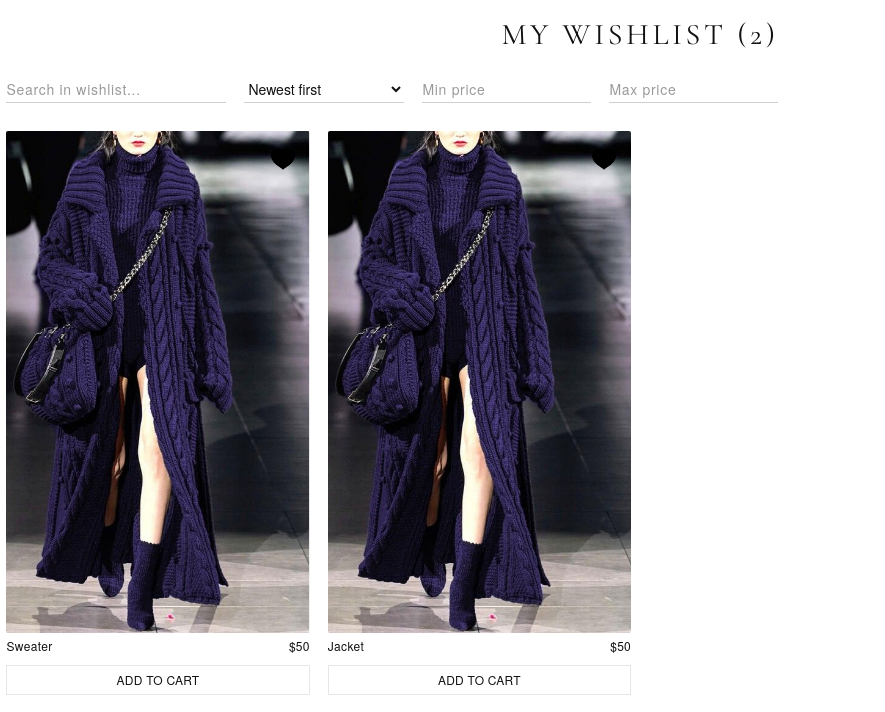
it: WishList - search filter › filters items by the search input without re-fetching from the server
The image size is (885, 712).
Check: the text "Sweater" is shown, box [6, 639, 53, 653]
Check: the text "Jacket" is shown, box [328, 639, 364, 653]
Type "Sweater" into the field with placeholder "Search in wishlist...". click: (116, 89)
box: [6, 75, 226, 103]
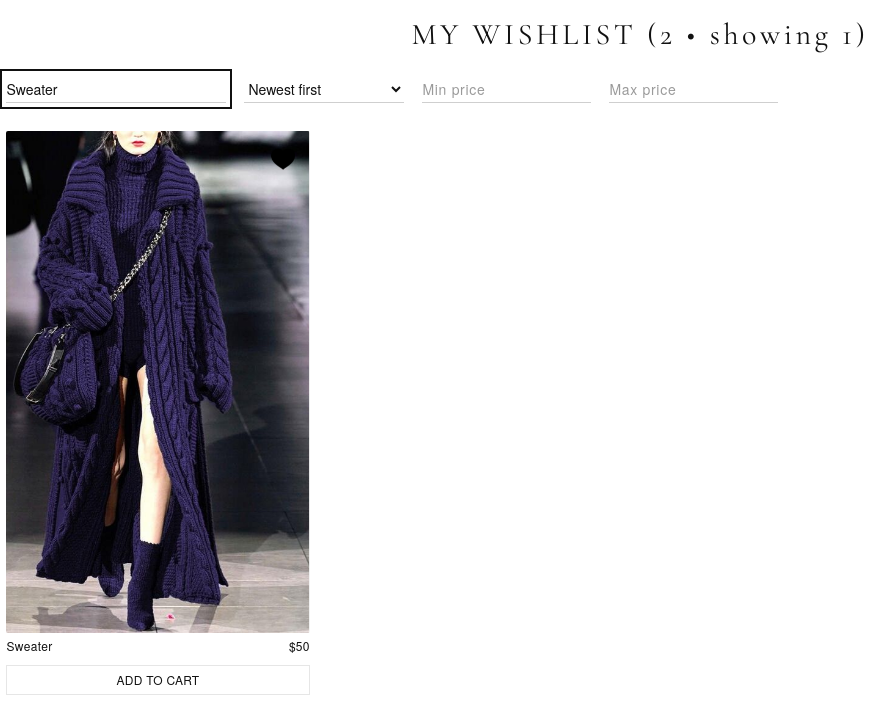
Check: the text "Sweater" is shown, box [6, 639, 53, 653]
Check: the text "Jacket" is gone
Check: the heading "MY WISHLIST (2 • showing 1)" is shown, box [411, 16, 868, 53]
